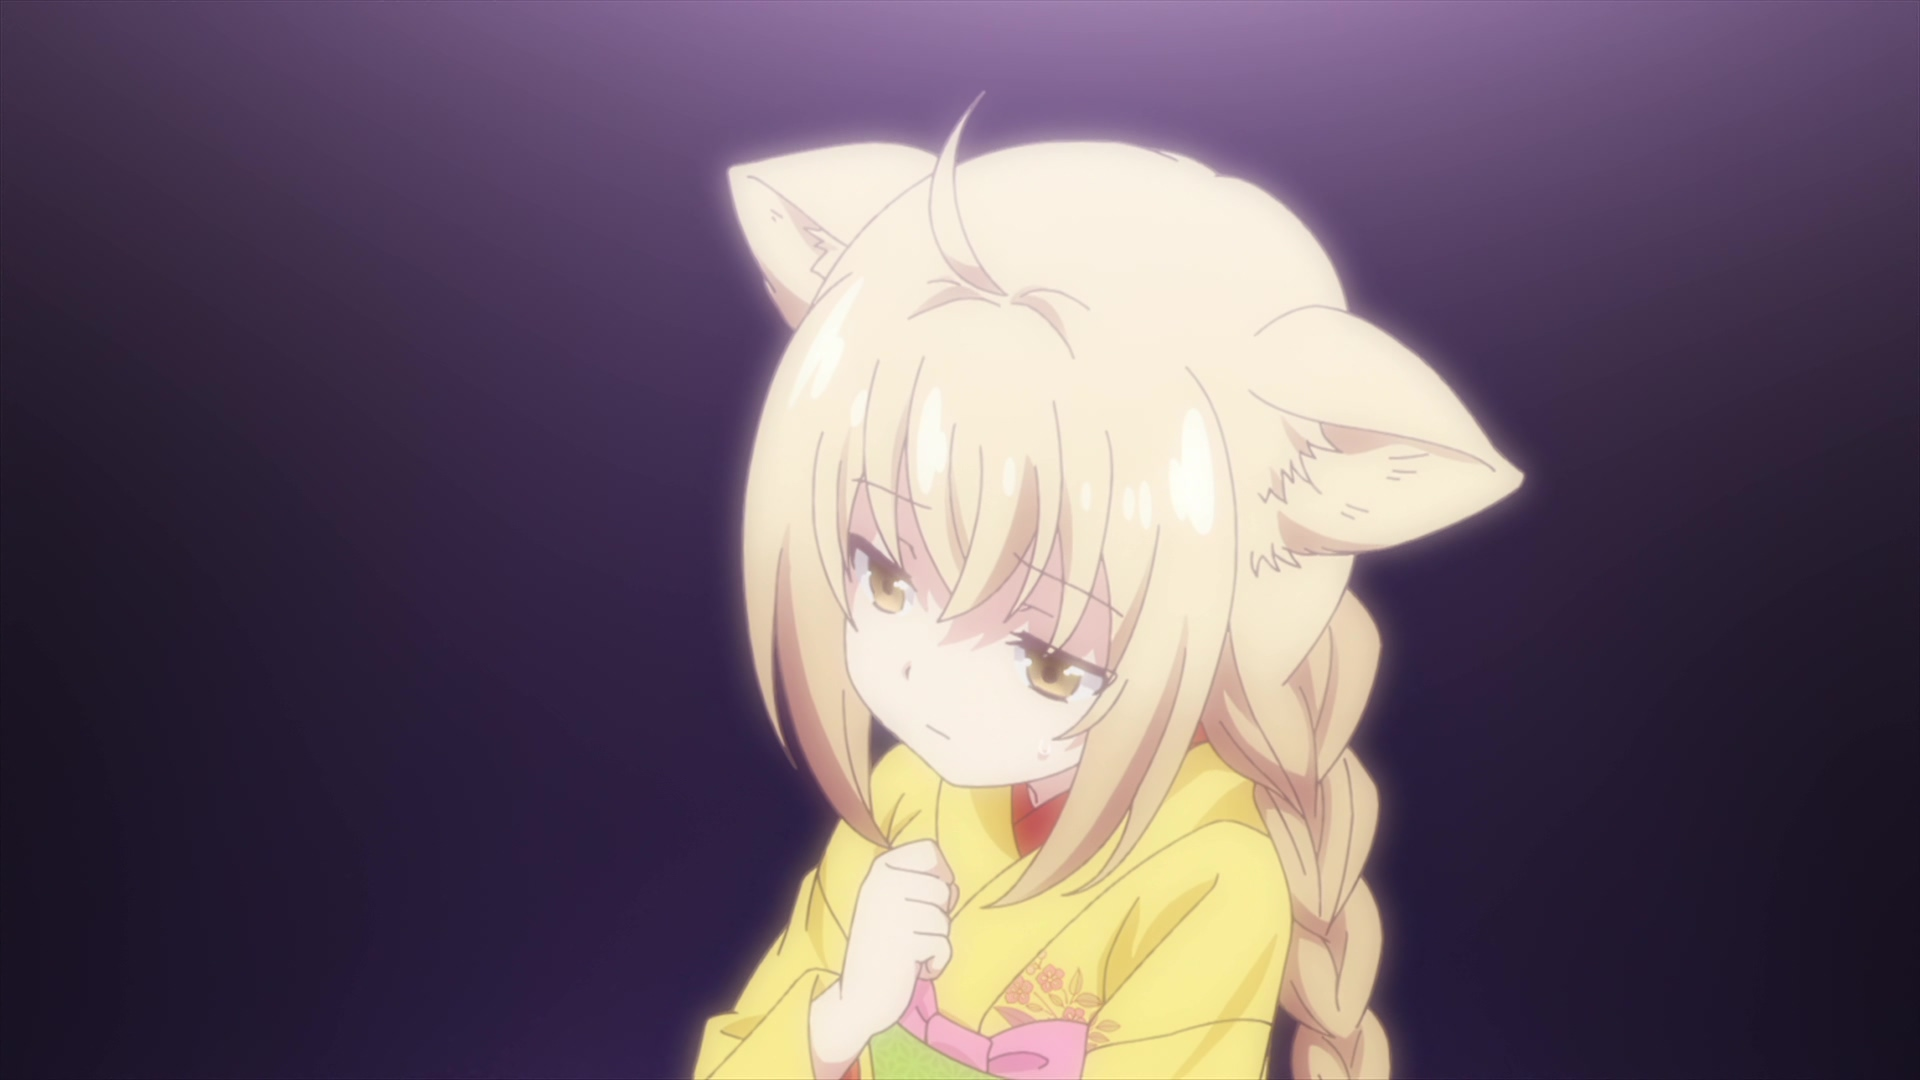柚: (688, 88, 1524, 1080)
